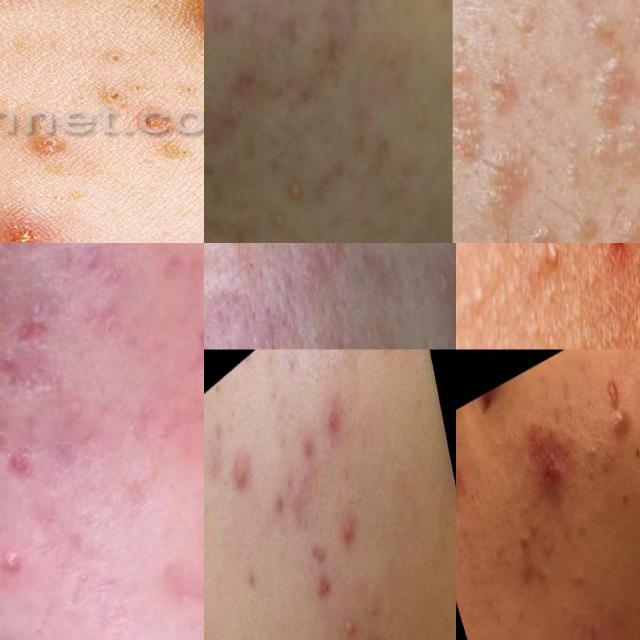acne_scars: (4, 292, 80, 353), (0, 433, 50, 480), (204, 104, 247, 151), (597, 370, 629, 418), (180, 312, 204, 373)
comedone: (565, 550, 596, 597), (278, 179, 316, 212), (586, 492, 610, 532), (553, 586, 575, 625), (581, 464, 604, 498), (515, 522, 533, 558), (526, 514, 548, 543), (408, 104, 430, 132), (585, 434, 603, 467)
flat_wart: (583, 45, 640, 192), (471, 23, 542, 131), (453, 49, 508, 188), (480, 136, 542, 234), (510, 200, 574, 243), (562, 195, 609, 243), (599, 201, 640, 243)
papule: (526, 436, 575, 508), (302, 527, 338, 614), (226, 440, 256, 512), (456, 436, 478, 518), (319, 388, 345, 450), (334, 498, 360, 558), (602, 404, 637, 445), (294, 422, 321, 475), (0, 344, 29, 393), (367, 625, 395, 640)
pustule: (533, 243, 578, 295), (0, 534, 35, 593), (601, 243, 638, 266), (340, 602, 362, 640)
sebo-crystan-conglo: (433, 243, 455, 349)
